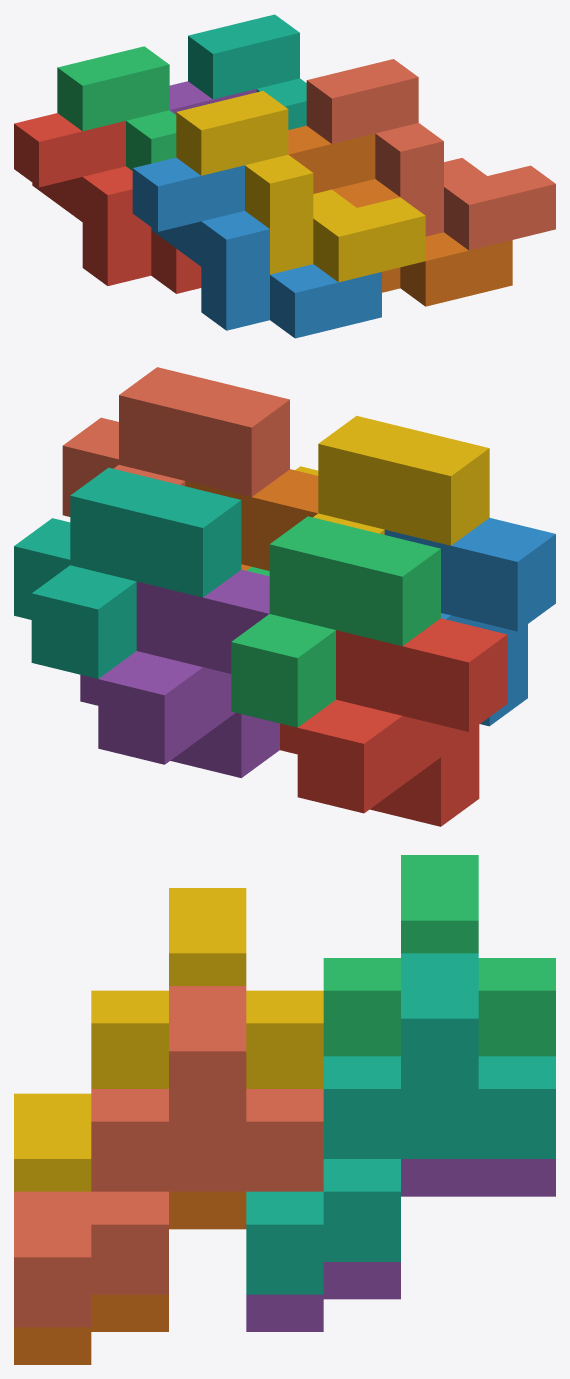
Rendered from tiling.obj.
The picture shows the model from 3 angles, top to bottom: view 1: azimuth 30°, elevation 25°; view 2: azimuth 150°, elevation 25°; view 3: azimuth 270°, elevation 25°; orthographic projection. The views are drawn at different scales.
Parts seen in each view (by area): view 1: copy_1_domain_4, copy_1_domain_2, copy_1_domain_8, copy_1_domain_1, copy_1_domain_6, copy_1_domain_3, copy_1_domain_7, copy_1_domain_5; view 2: copy_1_domain_1, copy_1_domain_7, copy_1_domain_3, copy_1_domain_5, copy_1_domain_8, copy_1_domain_4, copy_1_domain_2, copy_1_domain_6; view 3: copy_1_domain_8, copy_1_domain_7, copy_1_domain_4, copy_1_domain_3, copy_1_domain_5, copy_1_domain_6.
Boxes of the visible parts, x1=… form: copy_1_domain_4: x1=176, y1=91, x2=425, y2=282; copy_1_domain_2: x1=132, y1=157, x2=381, y2=338; copy_1_domain_8: x1=306, y1=59, x2=555, y2=250; copy_1_domain_1: x1=14, y1=113, x2=201, y2=293; copy_1_domain_6: x1=288, y1=125, x2=512, y2=306; copy_1_domain_3: x1=57, y1=46, x2=176, y2=170; copy_1_domain_7: x1=188, y1=14, x2=306, y2=129; copy_1_domain_5: x1=169, y1=81, x2=256, y2=114; copy_1_domain_1: x1=280, y1=618, x2=507, y2=826; copy_1_domain_7: x1=14, y1=467, x2=241, y2=678; copy_1_domain_3: x1=231, y1=516, x2=440, y2=727; copy_1_domain_5: x1=80, y1=569, x2=279, y2=778; copy_1_domain_8: x1=62, y1=367, x2=289, y2=516; copy_1_domain_4: x1=295, y1=415, x2=489, y2=545; copy_1_domain_2: x1=384, y1=517, x2=555, y2=726; copy_1_domain_6: x1=185, y1=469, x2=318, y2=570; copy_1_domain_8: x1=14, y1=986, x2=323, y2=1327; copy_1_domain_7: x1=246, y1=953, x2=555, y2=1294; copy_1_domain_4: x1=14, y1=888, x2=323, y2=1191; copy_1_domain_3: x1=323, y1=855, x2=555, y2=1056; copy_1_domain_5: x1=246, y1=1159, x2=555, y2=1331; copy_1_domain_6: x1=14, y1=1191, x2=246, y2=1364.
Bounding box in the file's own units: 9 × 4 × 7.
